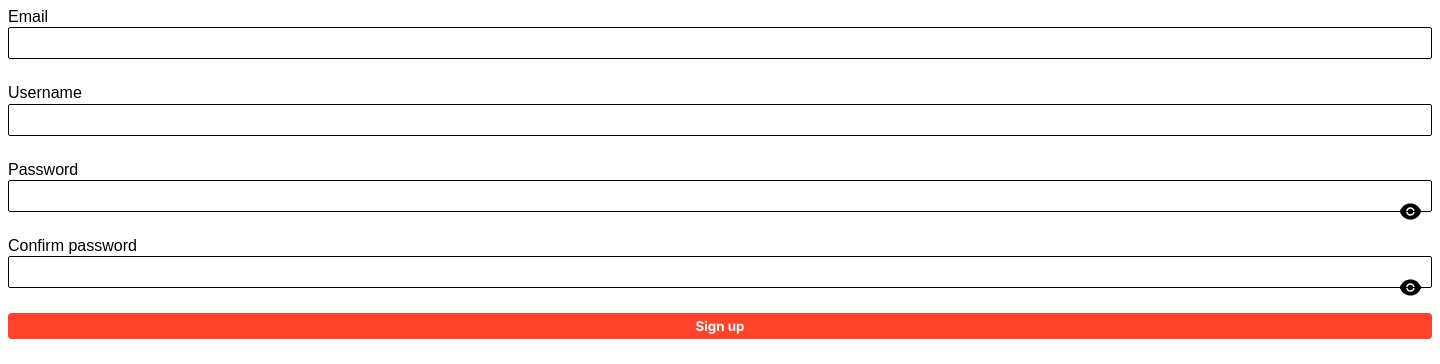
it: SingupForm › Should show valdation error when input is empty
This screenshot has width=1440, height=364.
Click the button "Sign up": [720, 326] box [8,313,1432,339]
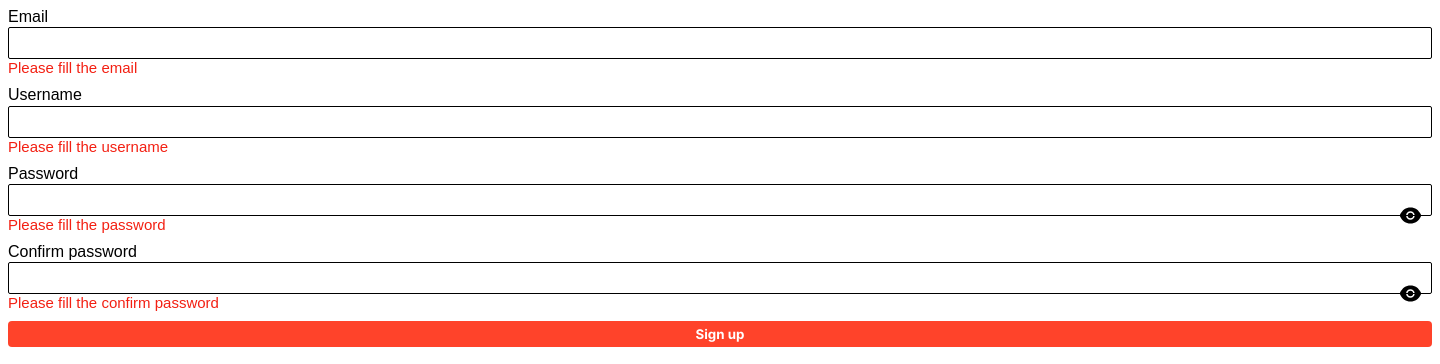
Now the text "Please fill the email" is shown, box [8,59,137,76]
Now the text "Please fill the username" is shown, box [8,138,168,155]
Now the text "Please fill the password" is shown, box [8,216,166,233]
